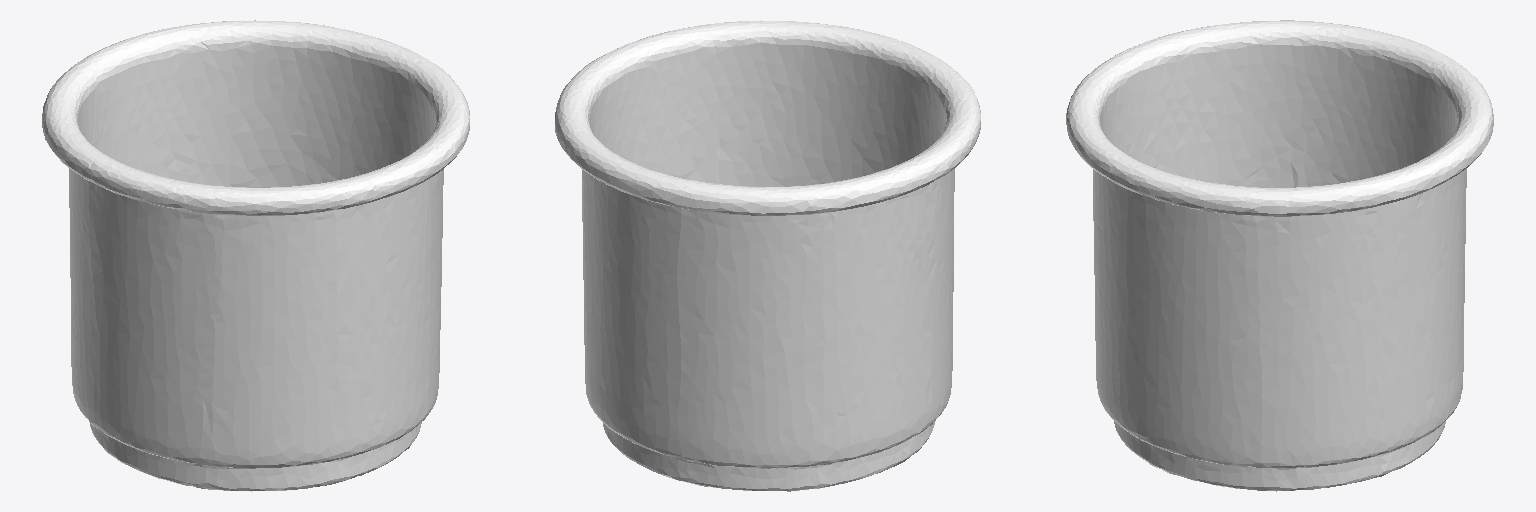
The robot description file, URDF, robot "051_large_clamp":
<robot name="051_large_clamp">
	<link name="_name">
		<visual>
			<origin xyz="0.023853062583482333 0.21571805079263193 -0.17436900351502183" rpy="0 0 0" />
			<geometry>
				<mesh filename="051_large_clamp/google_16k/textured.obj" scale="10 10 10" />
			</geometry>
			<material name="texture">
				<color rgba="1.0 1.0 1.0 1.0" />
			</material>
		</visual>
		<collision>
			<geometry>
				<mesh filename="051_large_clamp/google_16k/textured_vhacd.obj" scale="10 10 10" />
			</geometry>
		<origin xyz="0.023853062583482333 0.21571805079263193 -0.17436900351502183" rpy="0 0 0" /></collision>
		<inertial>
			<mass value="1.0" />
			<inertia ixx="1.0" ixy="0.0" ixz="0.0" iyy="1.0" iyz="0.0" izz="1.0" />
		</inertial>
	</link>
</robot>

--- Render facts (derived) ---
The picture shows the robot from 3 angles, left to right: view 1: azimuth 30°, elevation 25°; view 2: azimuth 150°, elevation 25°; view 3: azimuth 270°, elevation 25°; orthographic projection.
Model 051_large_clamp with 1 links and 0 joints (none), rooted at _name, posed every joint at zero.
Links seen in each view (by area): view 1: _name; view 2: _name; view 3: _name.
Link boxes in pixels (x1,y1,x2,y2): _name: (42, 20, 469, 491); _name: (555, 20, 980, 491); _name: (1066, 20, 1493, 491).
Size in the robot's own frame: 0.915 by 0.9162 by 0.7506 metres.
Meshes: 1 distinct files referenced, 1 mesh visuals loaded (1 OBJ).